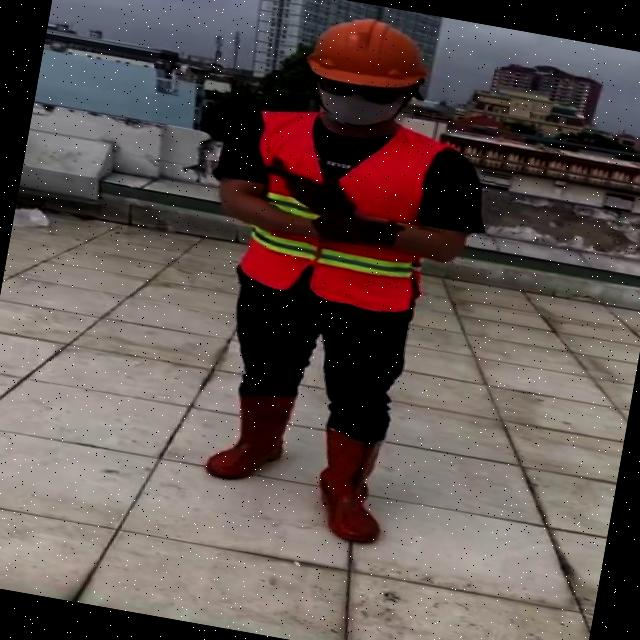boots: (304, 426, 395, 545), (202, 384, 296, 488)
